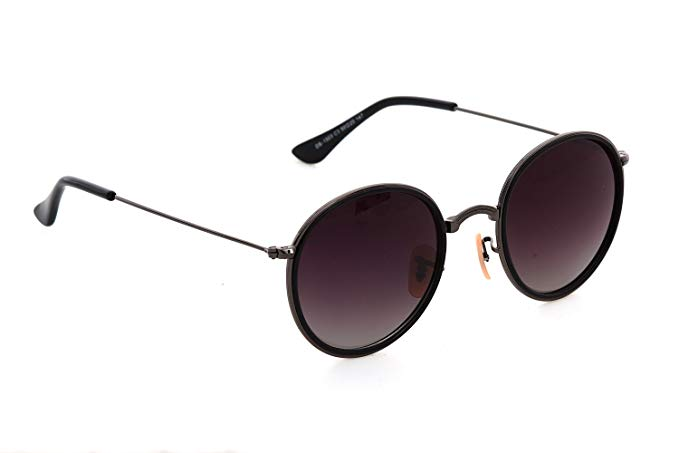sunglasses: (252, 132, 654, 359)
